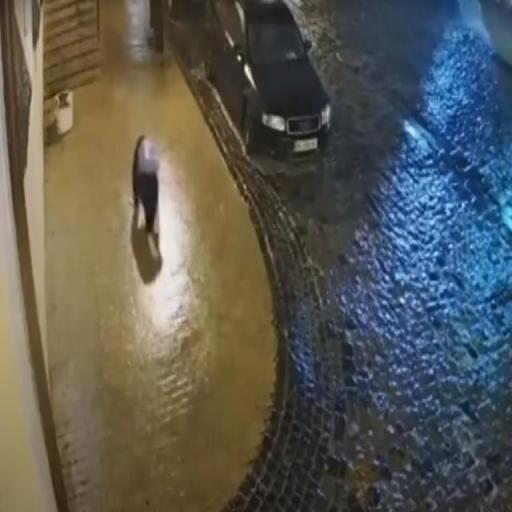Fall: (131, 131, 163, 242)
